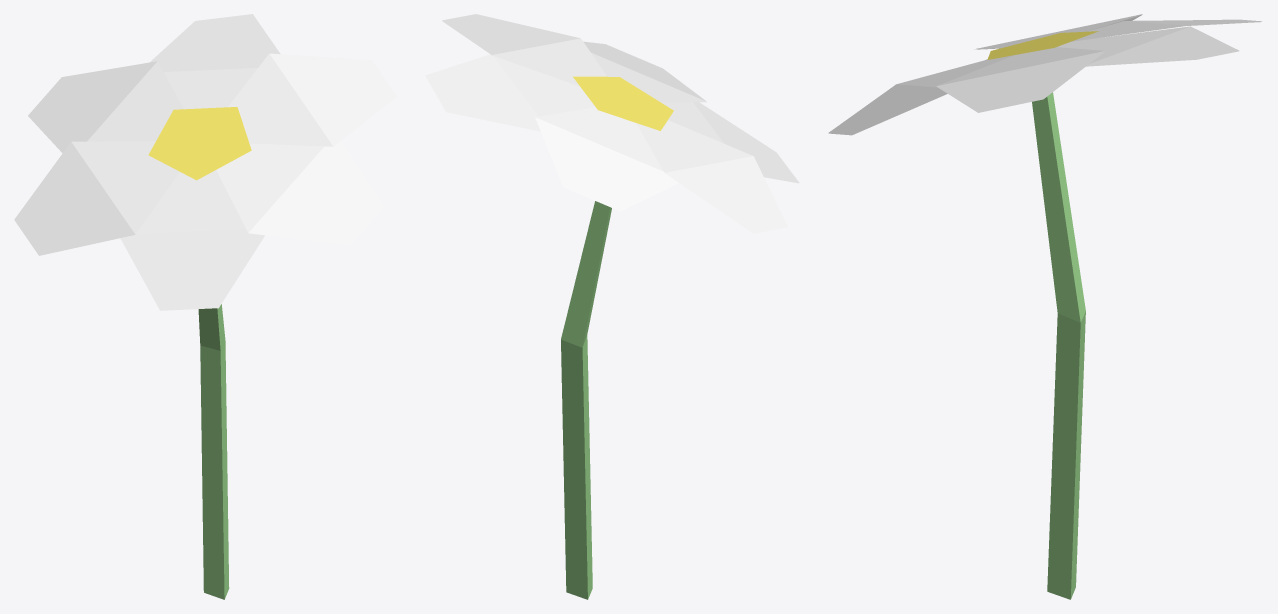
The model's file is Flower_e_TwoS_04.fbx.
3 views of the same model, side by side, from view 1: azimuth 30°, elevation 25°; view 2: azimuth 150°, elevation 25°; view 3: azimuth 270°, elevation 25° (orthographic). The views are drawn at different scales.
Visible parts, largest first — view 1: Flower_e_TwoS_04; view 2: Flower_e_TwoS_04; view 3: Flower_e_TwoS_04.
Part boxes in pixels (x1,y1,x2,y2): Flower_e_TwoS_04: [14, 14, 396, 599]; Flower_e_TwoS_04: [425, 14, 799, 599]; Flower_e_TwoS_04: [828, 14, 1261, 599].
Bounding box in the file's own units: 19.7 × 29.2 × 19.73.
